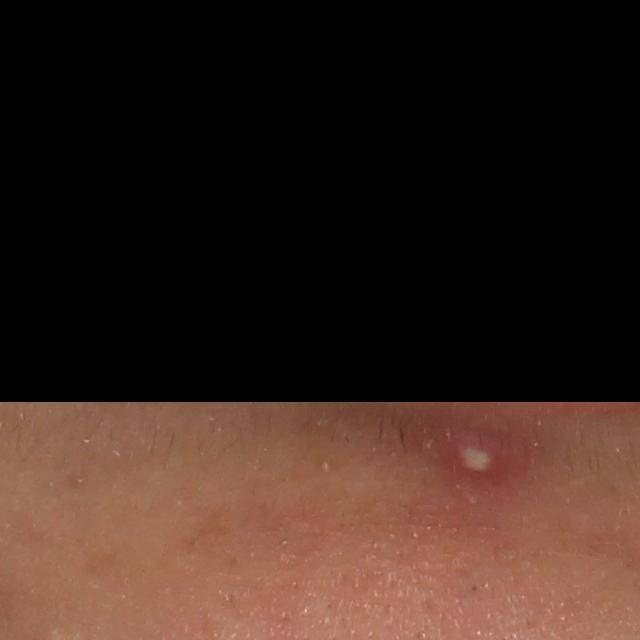pustule: (447, 437, 521, 489)
